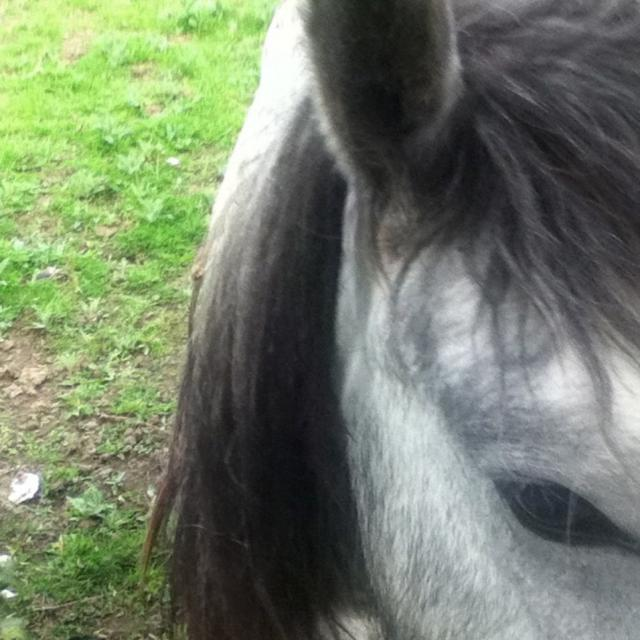Horse: (139, 0, 640, 639)
